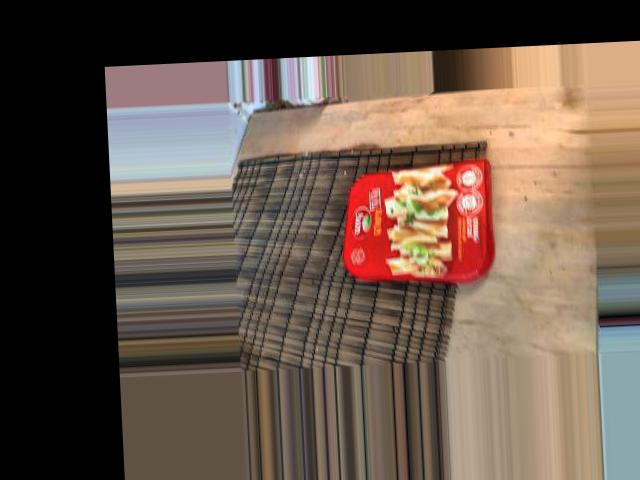cheese: (338, 161, 507, 279)
